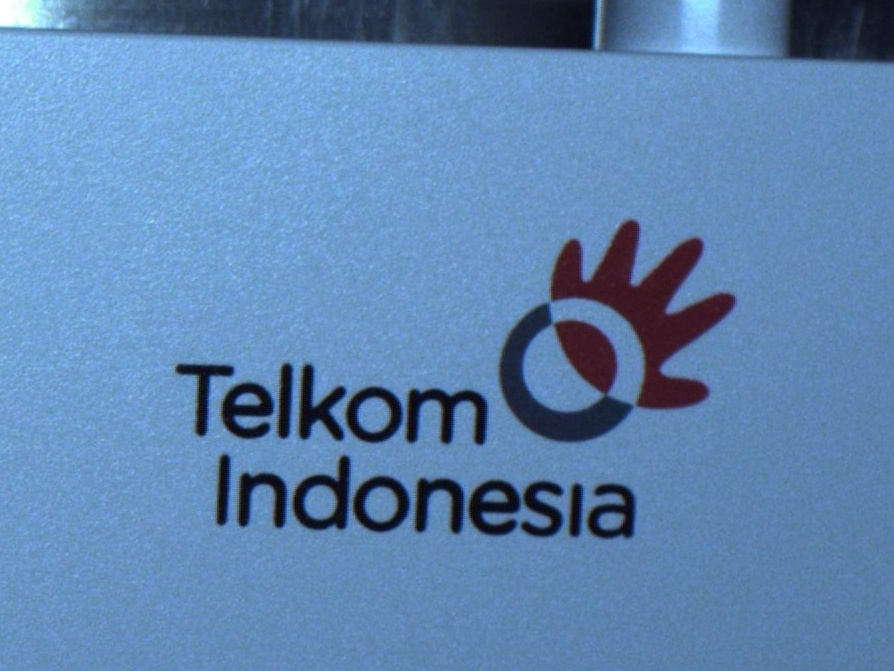BQ_IndonTelkom: (158, 215, 739, 557)
